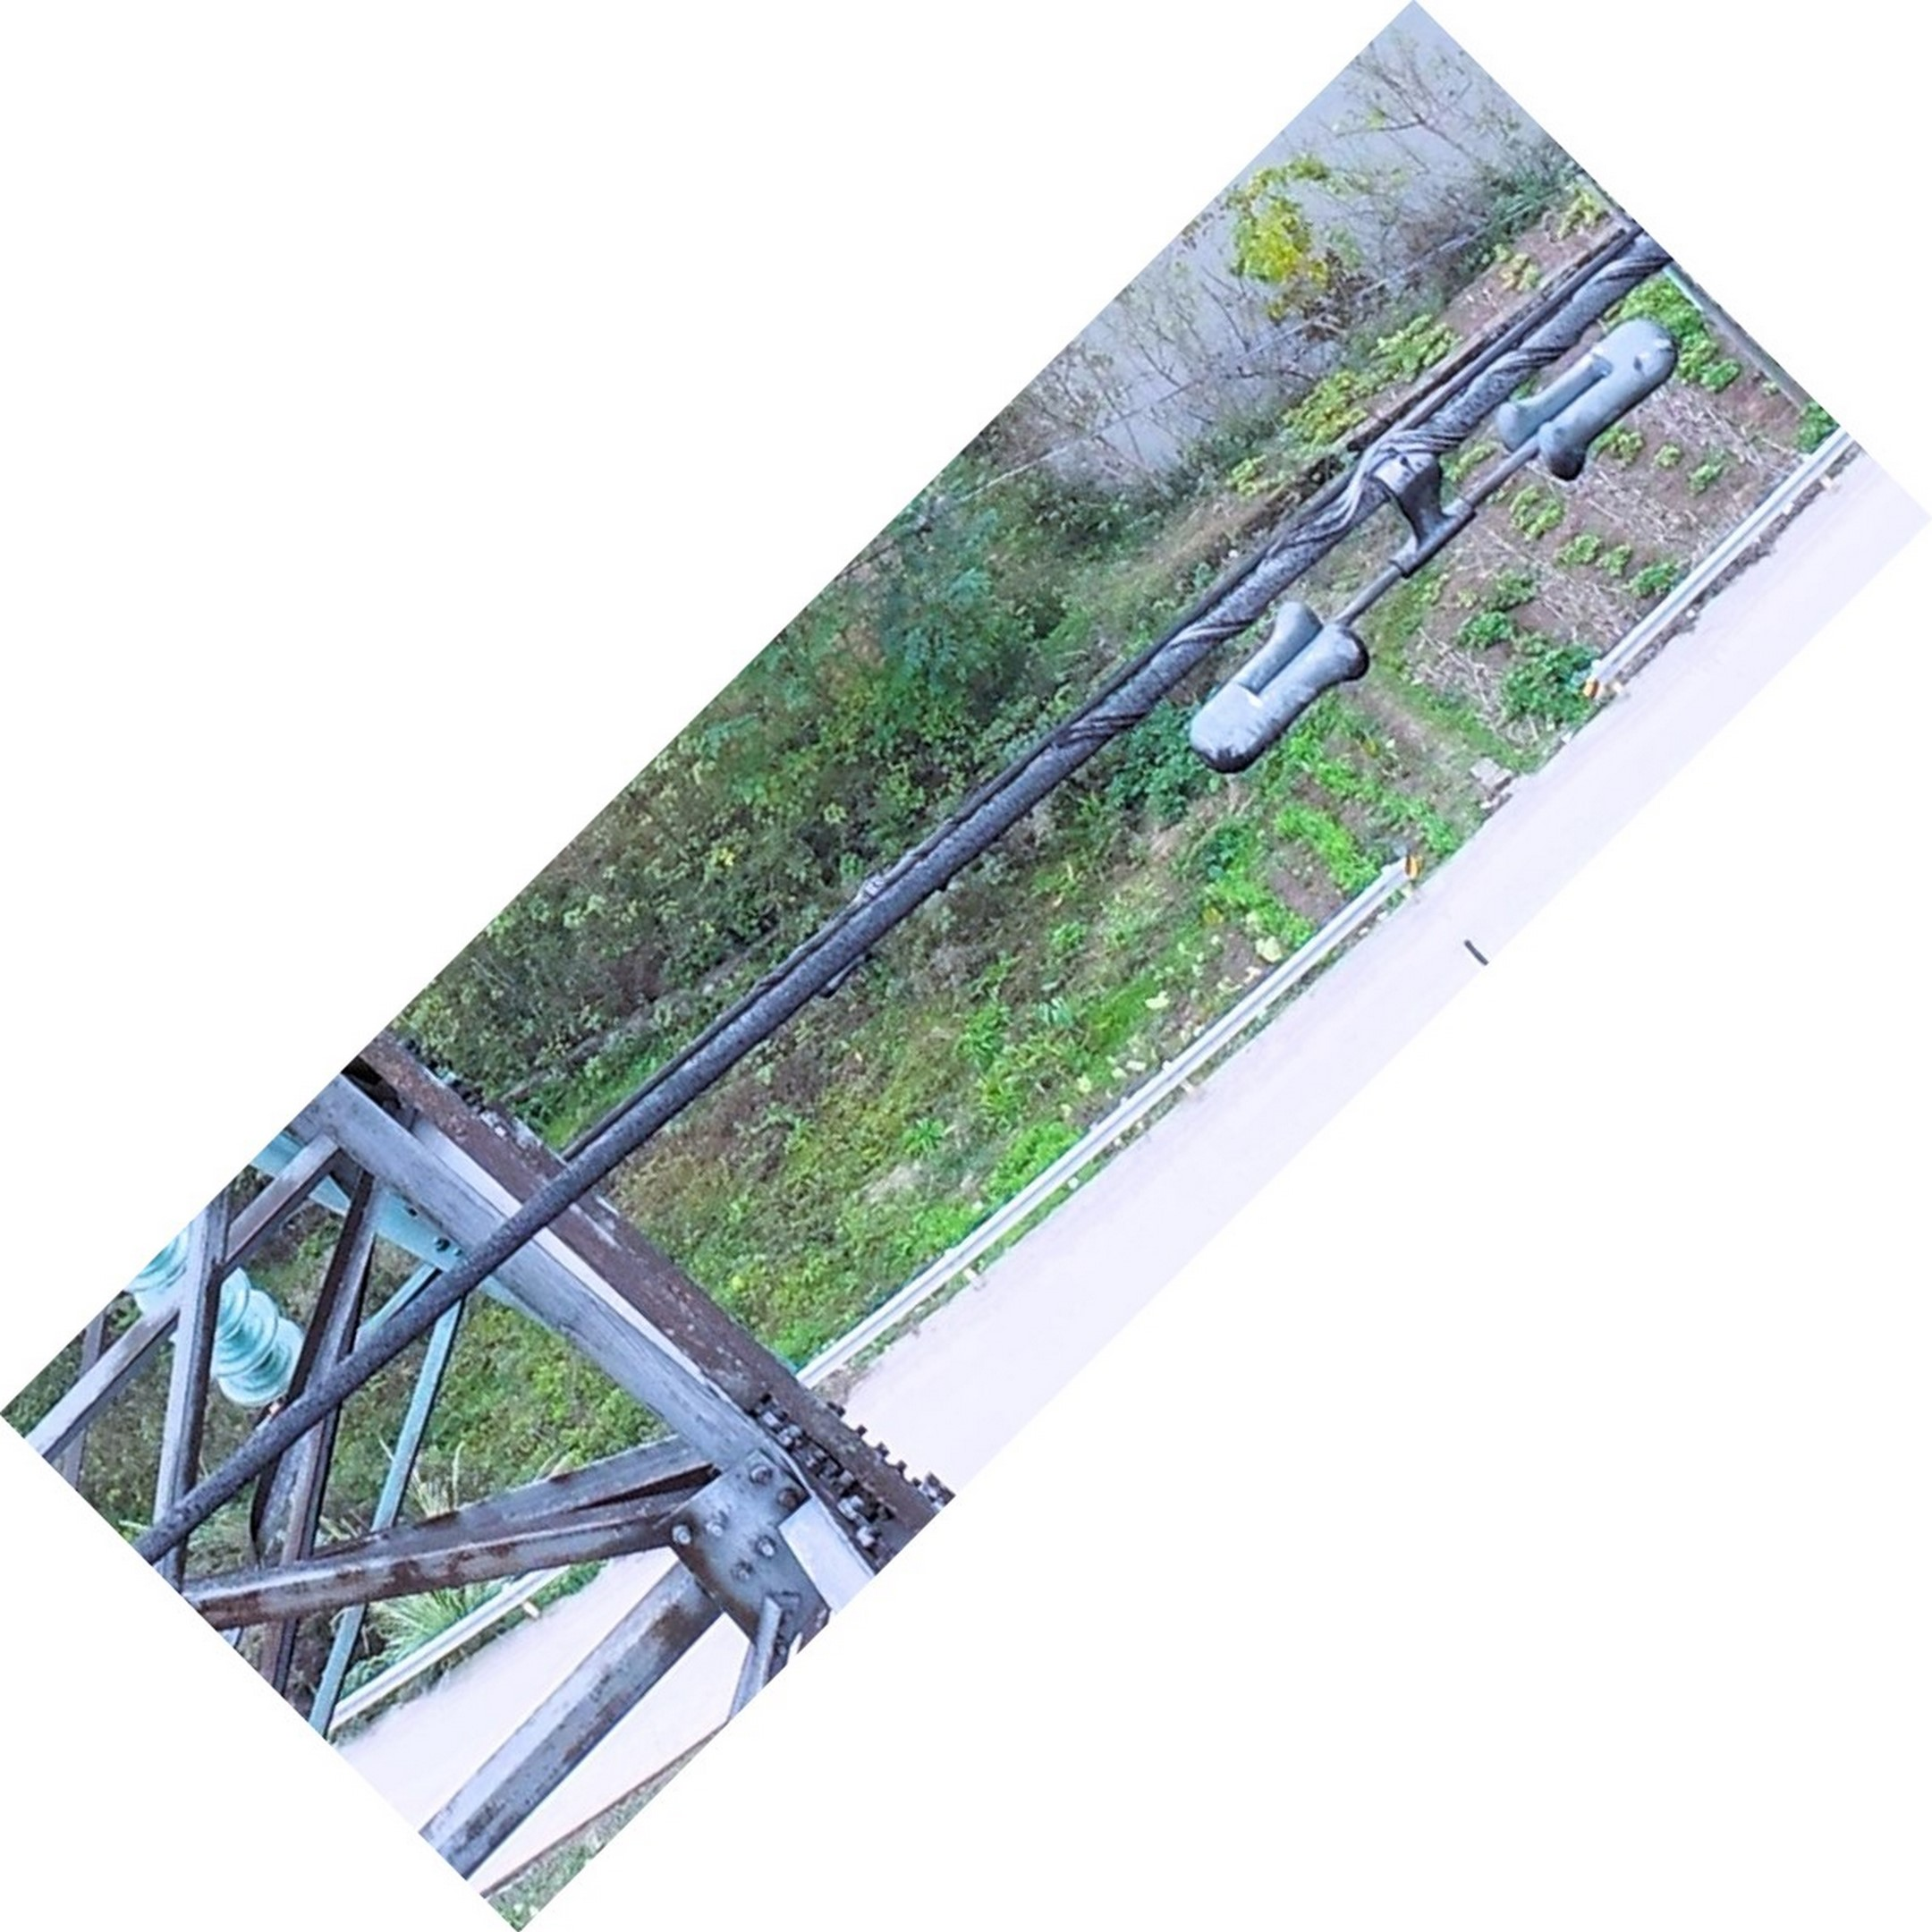Shockproof hammer: (1146, 285, 1707, 777)
